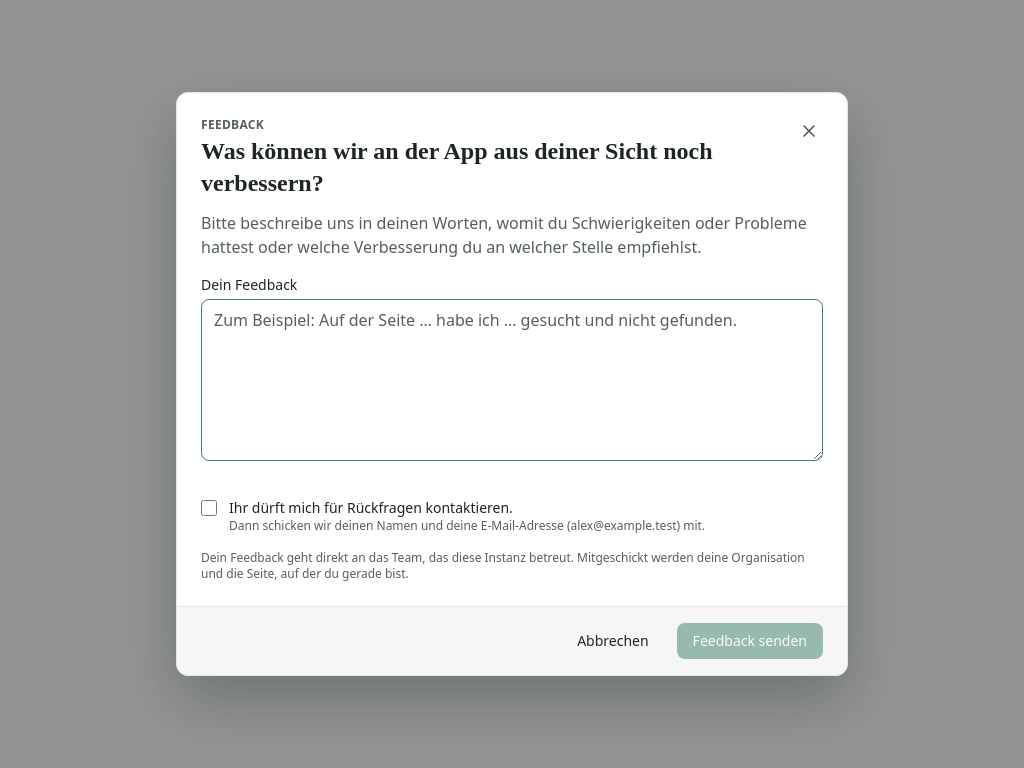
Test: FeedbackModal › meldet ein abgeschaltetes Modul und blendet den Punkt aus
Replace the text in the text box labelled "Dein Feedback" with "Hallo": (512, 380) [201,299,823,461]
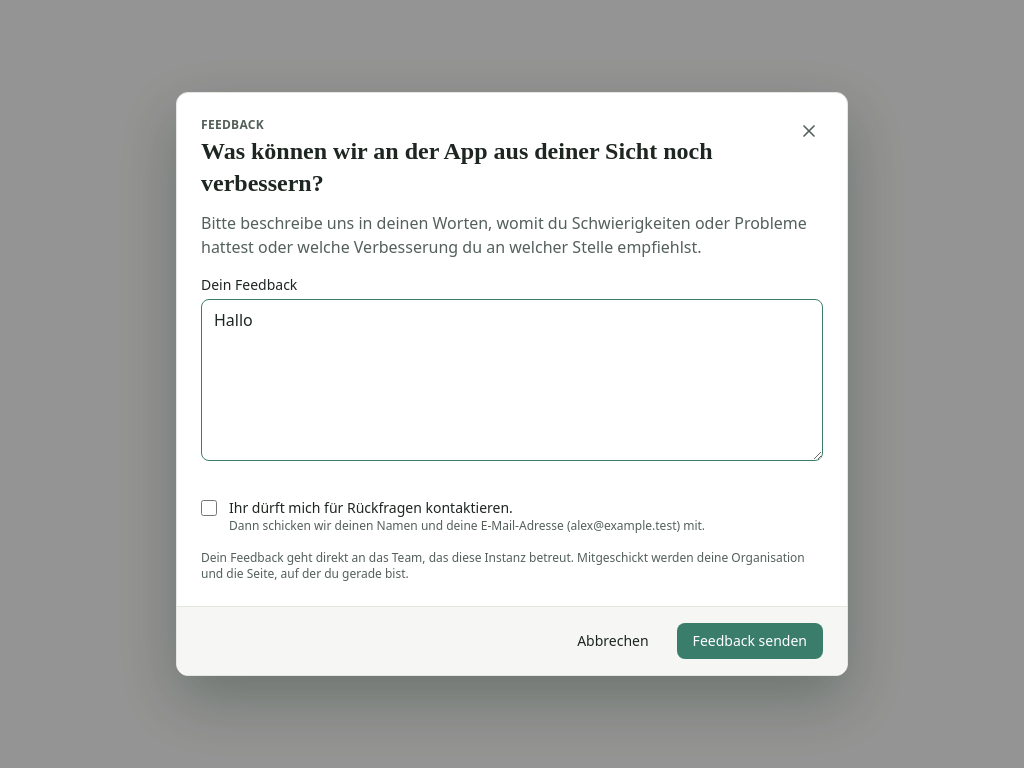
Click the button "Feedback senden": (750, 641) [677,623,823,659]
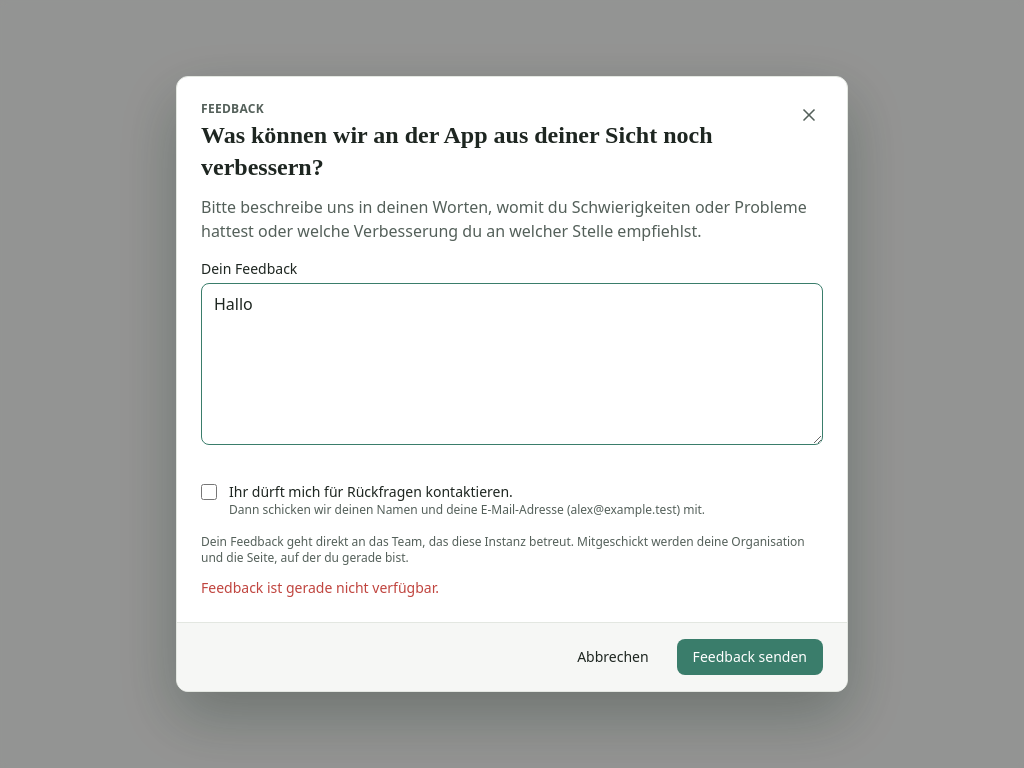
Expected: the message shows "gerade nicht verfügbar", [201,578,439,597]
